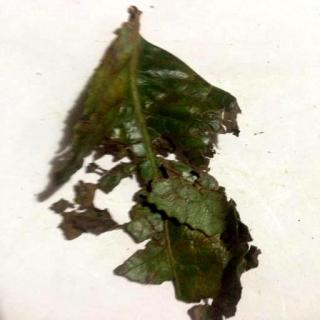Red Leaf Spot: (53, 8, 260, 320)
